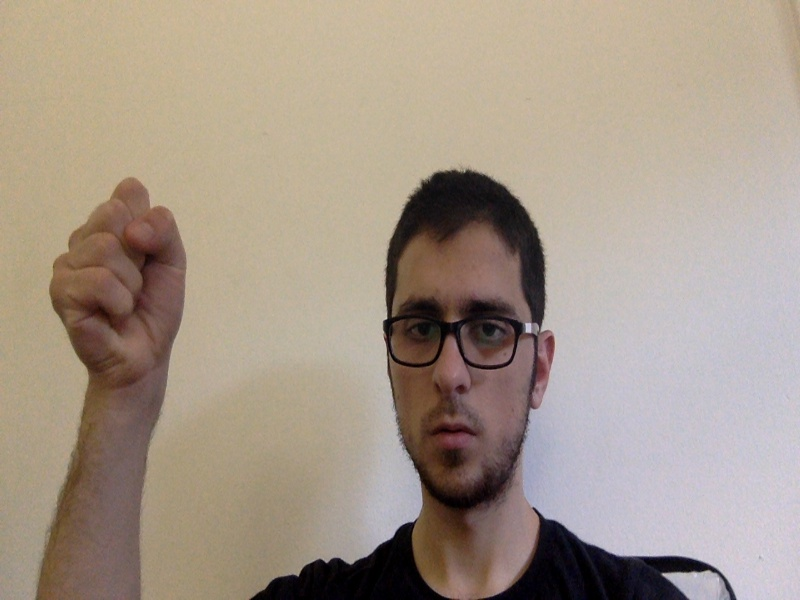0-hand: (50, 175, 186, 387)
